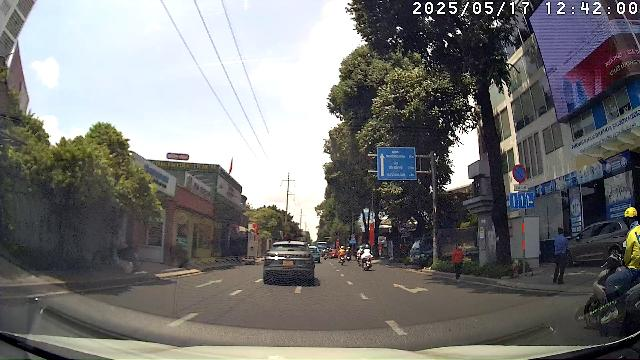131a-cam-do-xe: (513, 164, 527, 183)
